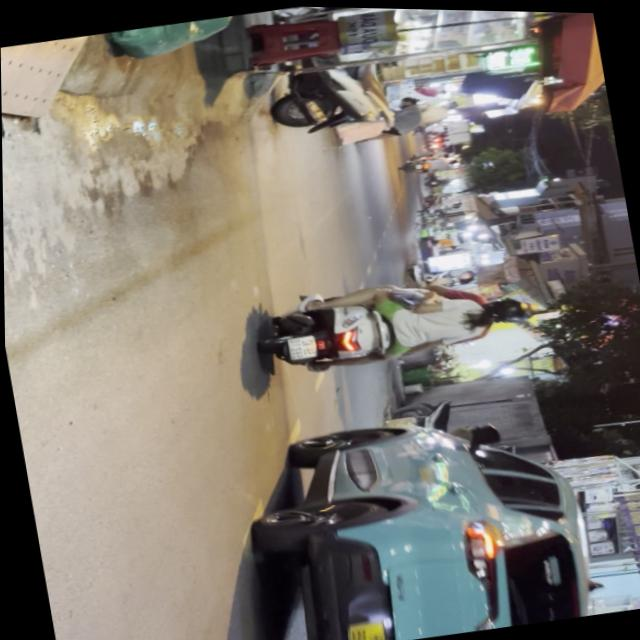helmet: (480, 291, 531, 325)
licenseplate: (247, 254, 545, 387)
nohelmet: (288, 332, 317, 359)
